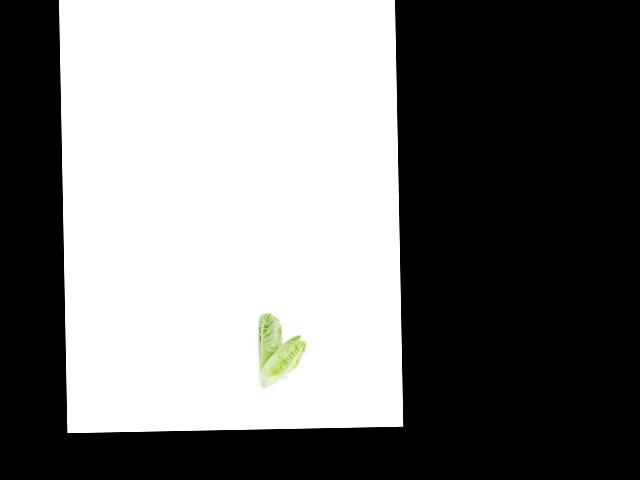lettuce: (253, 307, 284, 372)
